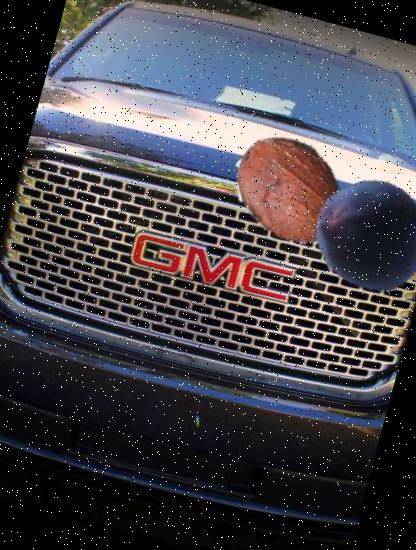Cocos: (220, 116, 366, 262)
Plum: (302, 167, 416, 308)
